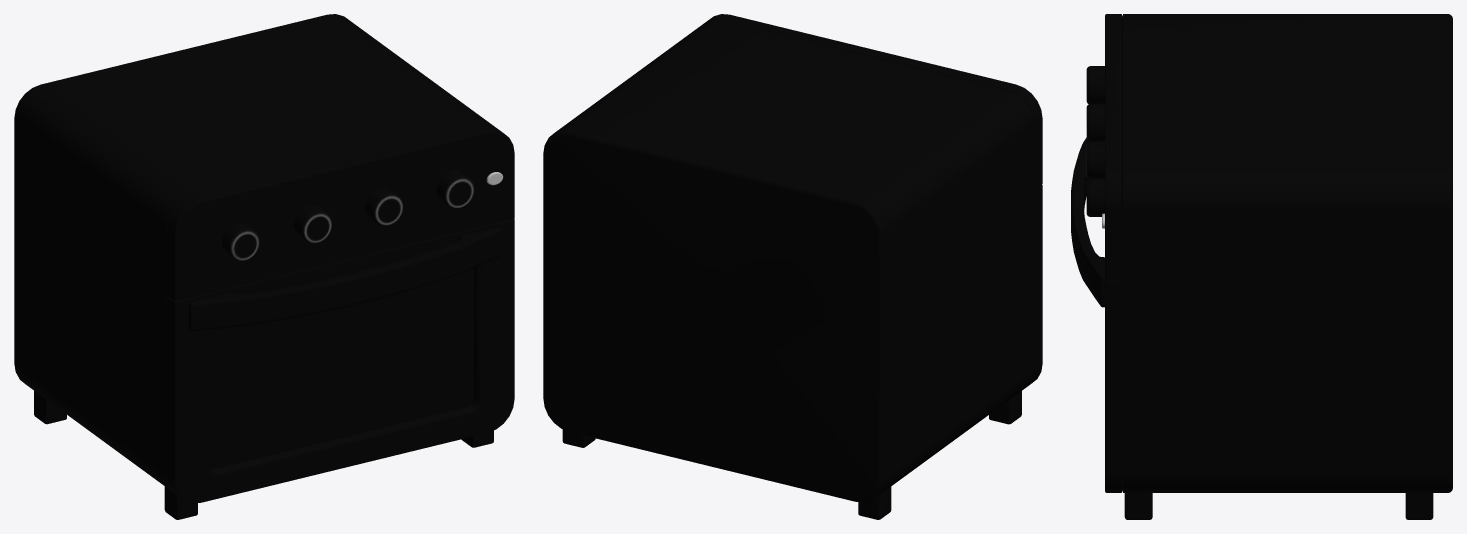
The model's file is electronic_40.001.fbx.
The picture shows the model from 3 angles, left to right: view 1: azimuth 30°, elevation 25°; view 2: azimuth 150°, elevation 25°; view 3: azimuth 270°, elevation 25°; orthographic projection. The views are drawn at different scales.
Visible parts, largest first — view 1: electronic_40.001; view 2: electronic_40.001; view 3: electronic_40.001.
Boxes of the visible parts, left/top/right/bottom form: electronic_40.001: left=14, top=14, right=514, bottom=519; electronic_40.001: left=543, top=14, right=1042, bottom=519; electronic_40.001: left=1071, top=14, right=1452, bottom=519.
Size of the model in its own units: 41.4 by 37.49 by 37.52.
Materials: 1 (1 with a texture image).
